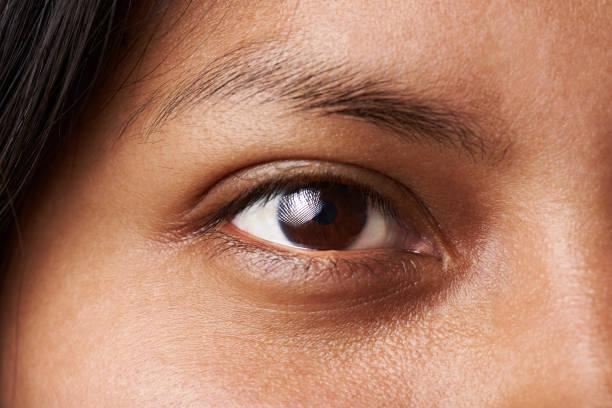Eyebags: (189, 237, 451, 330)
